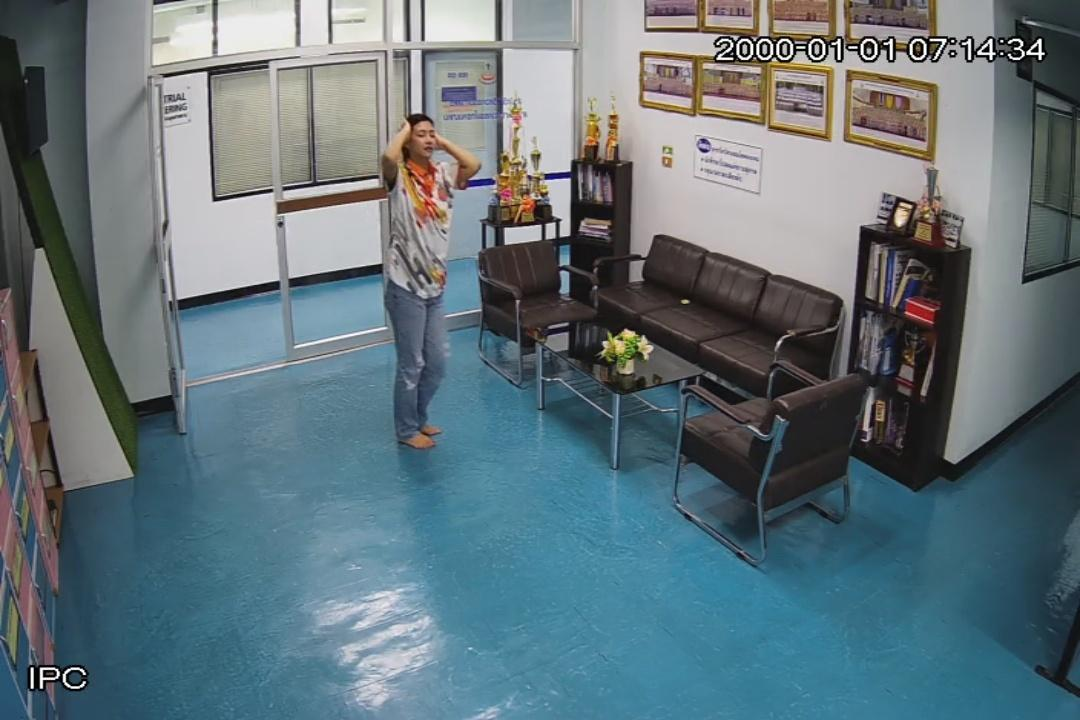normal: (381, 116, 485, 448)
